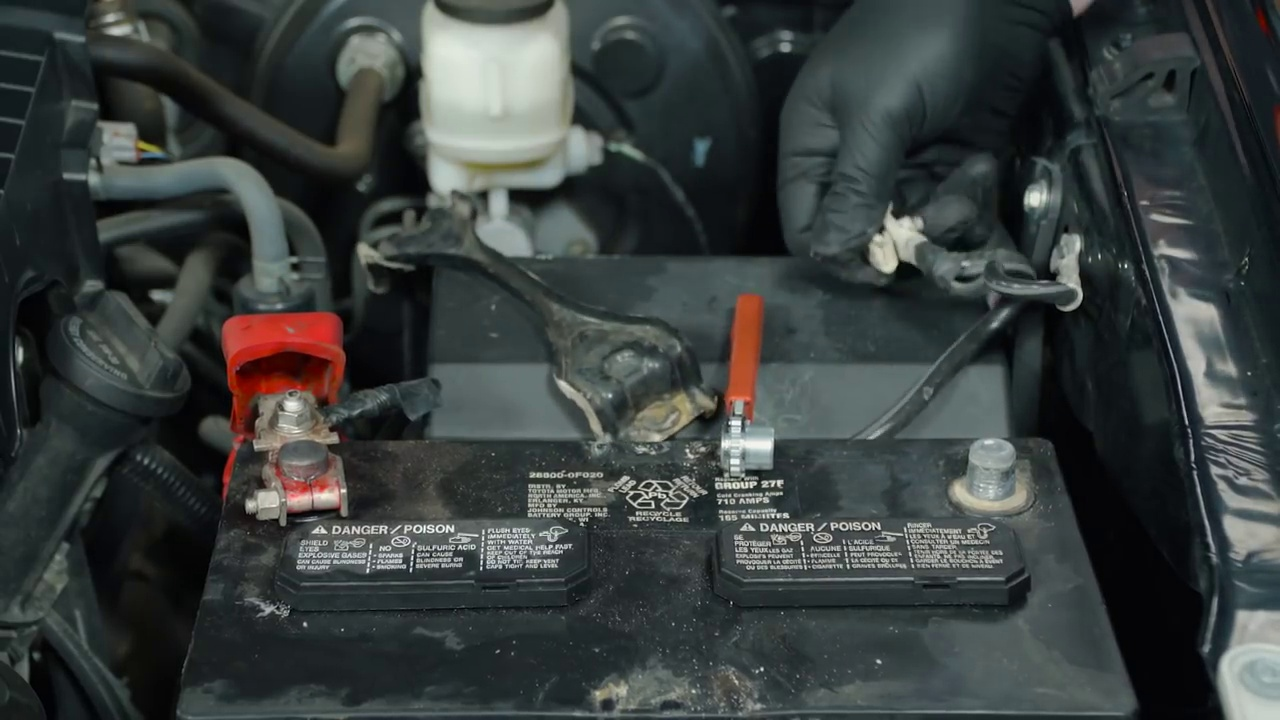battery: (202, 371, 1105, 712)
neg_disconnected: (904, 373, 1081, 530)
pos_connected: (219, 281, 354, 519)
